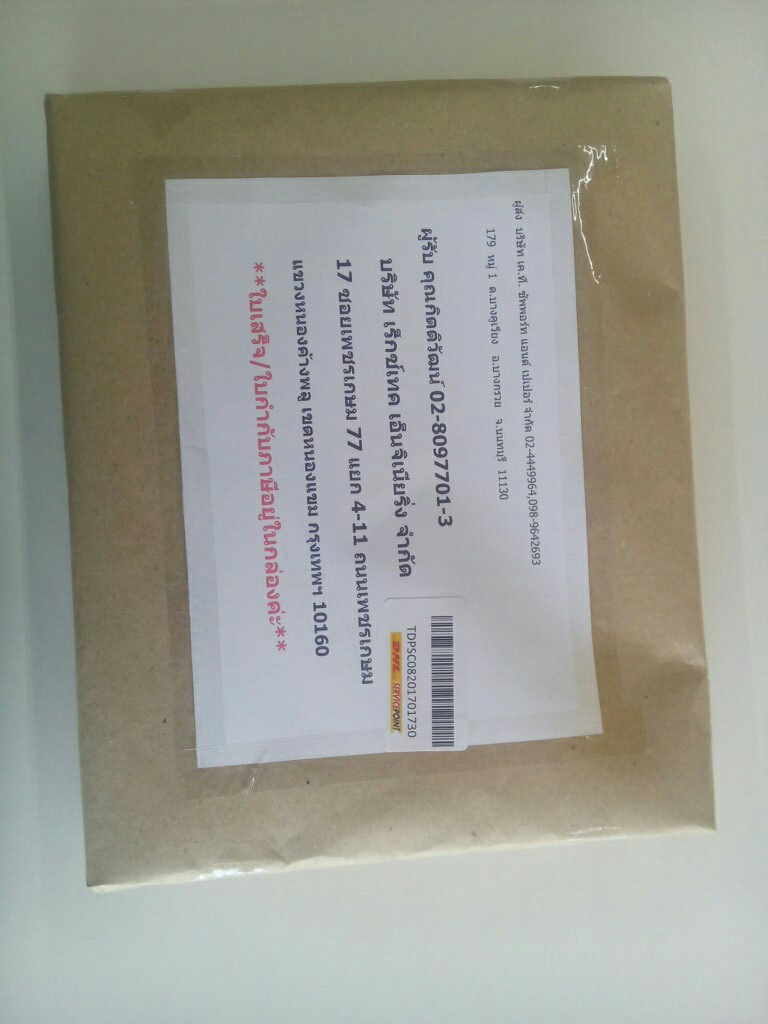ba: (379, 589, 469, 759)
txt: (225, 224, 471, 693)
